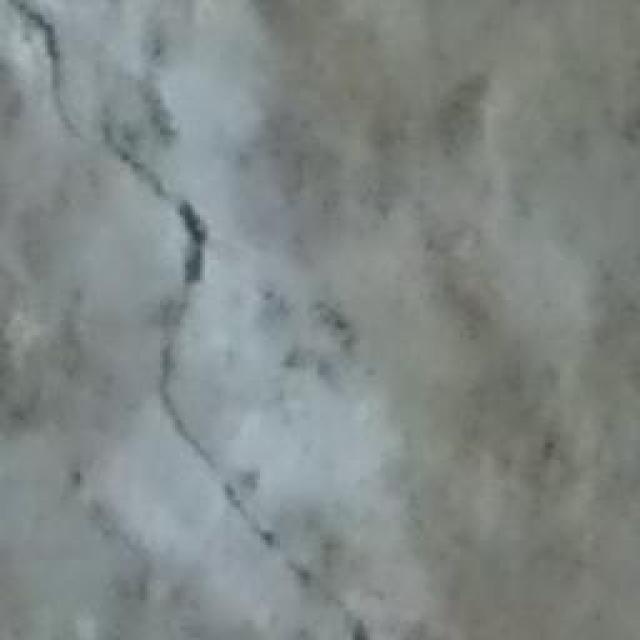Longitudinal: (7, 3, 393, 640)
